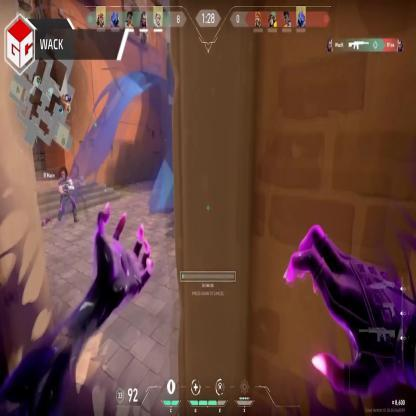enemy: (58, 166, 80, 224)
enemy_head: (61, 168, 66, 182)
